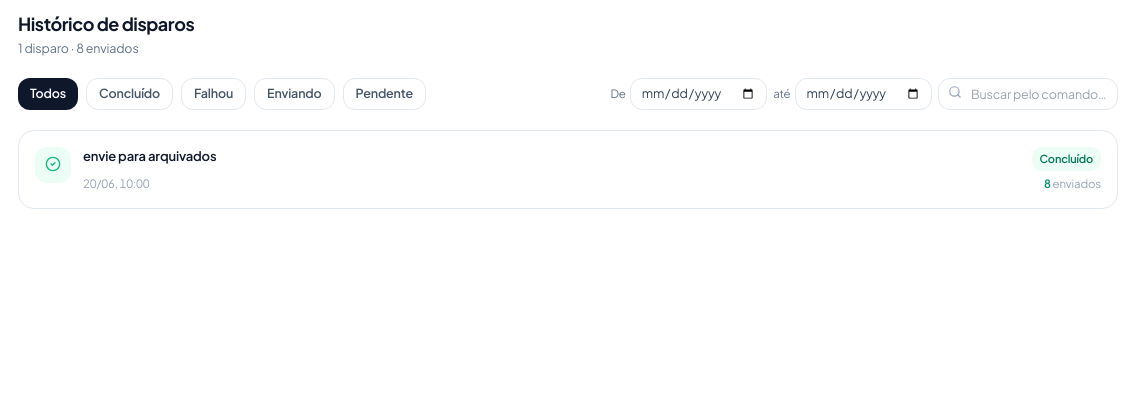
Test case: HistoricoDisparos › clicar numa linha abre o detalhe com as falhas
Step 1. Click the text "envie para arquivados" → {"x": 150, "y": 157}, box [83,147,216,166]
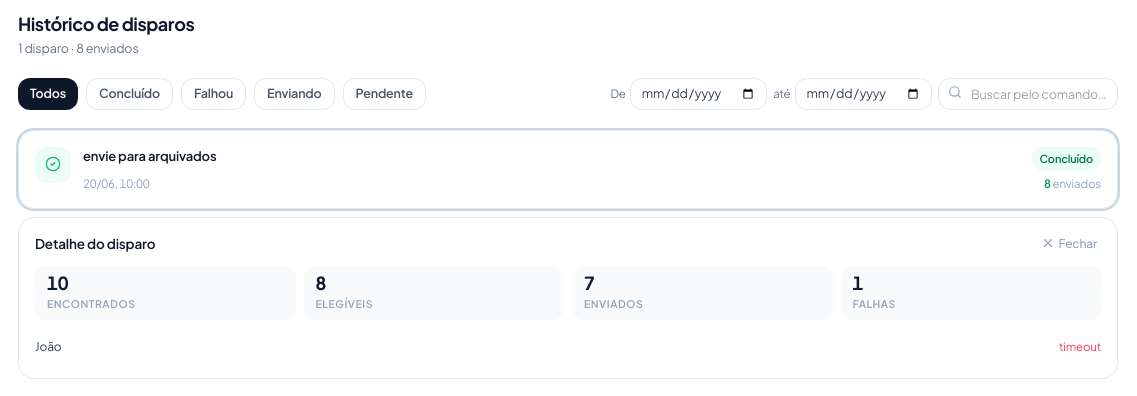
Now the text "João" is shown, box [35,338,62,356]
Now the text "timeout" is shown, box [1059,338,1101,356]
